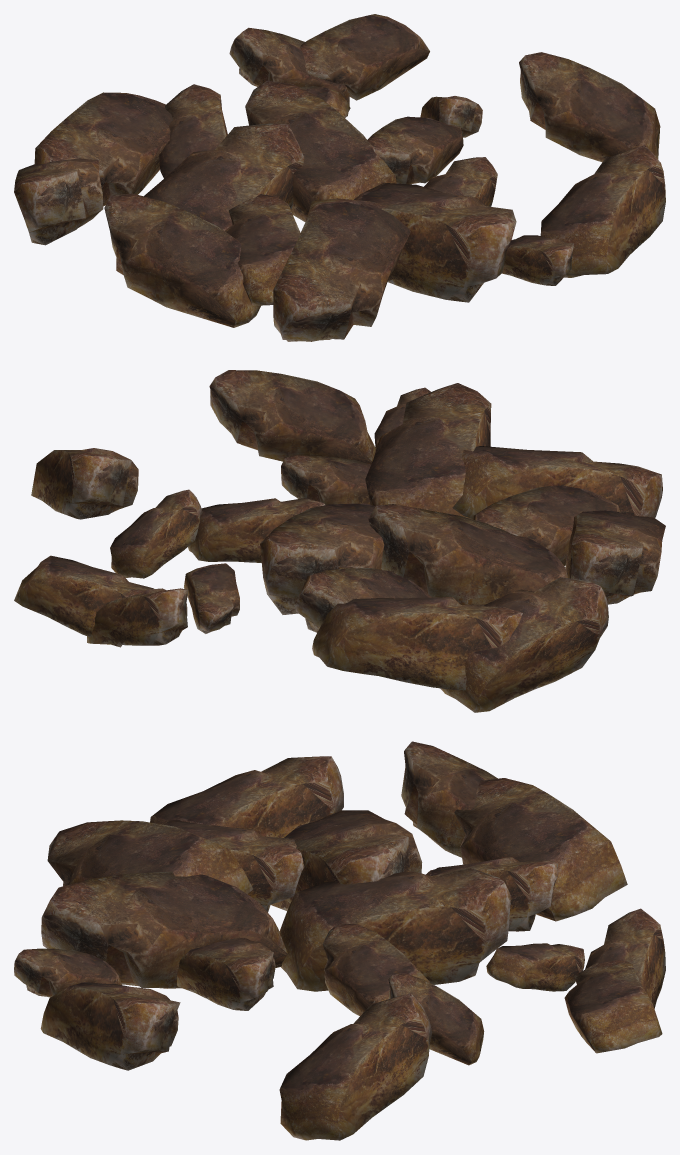
Rendered from Scan_Pebbles_A.fbx.
The picture shows the model from 3 angles, top to bottom: view 1: azimuth 30°, elevation 25°; view 2: azimuth 150°, elevation 25°; view 3: azimuth 270°, elevation 25°; orthographic projection. The views are drawn at different scales.
Visible parts, largest first — view 1: Scan_Pebbles_A_LOD0; view 2: Scan_Pebbles_A_LOD0; view 3: Scan_Pebbles_A_LOD0.
Part boxes in pixels (box(x1,y1,x2,y2)): Scan_Pebbles_A_LOD0: box(14, 14, 665, 341); Scan_Pebbles_A_LOD0: box(14, 370, 665, 712); Scan_Pebbles_A_LOD0: box(14, 741, 665, 1140).
Size of what is drawn, in the model's own units: 1.67 by 0.2791 by 1.44.
